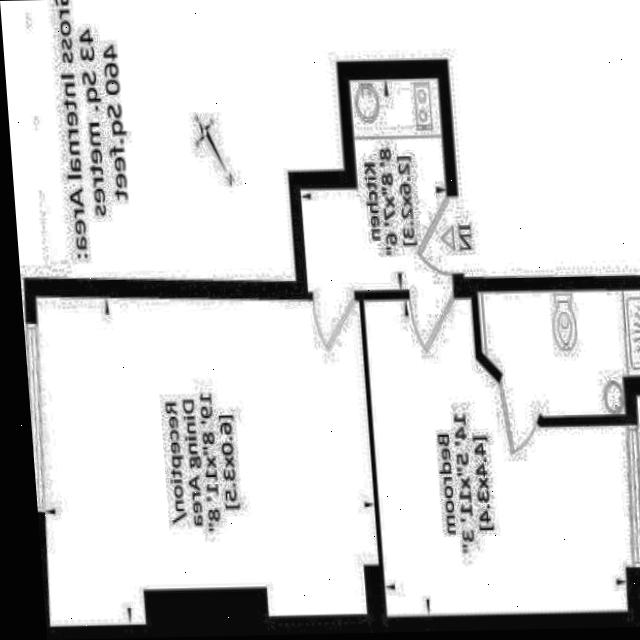room: (35, 281, 381, 628), (364, 289, 635, 622), (293, 73, 453, 296), (477, 289, 640, 416)
